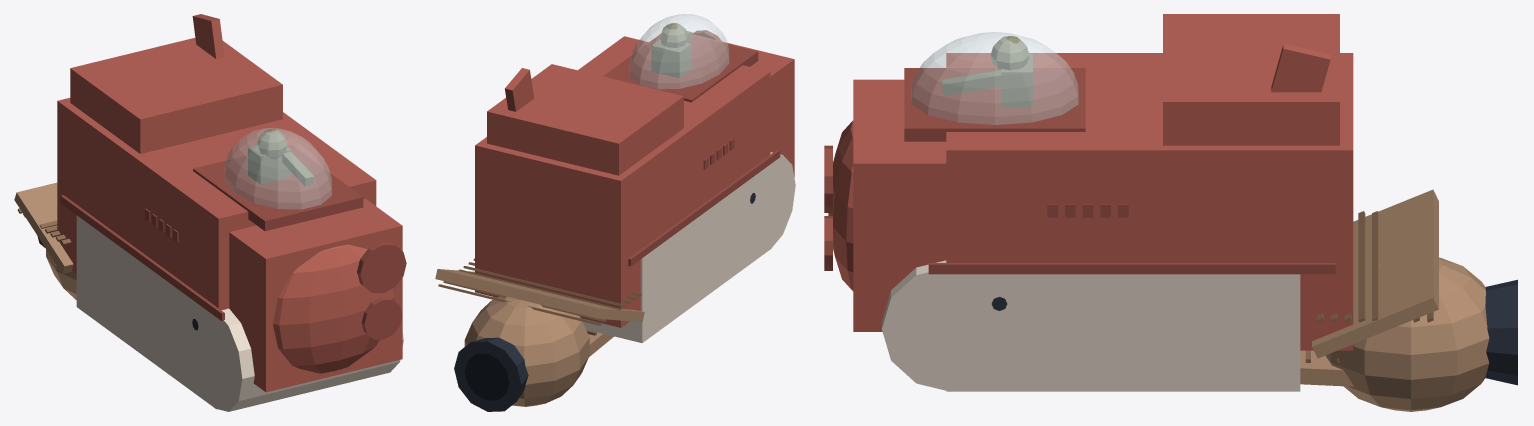
Rendered from gateHaulerCraft_hauler-23-8.glb.
3 views of the same model, side by side, from view 1: azimuth 30°, elevation 25°; view 2: azimuth 150°, elevation 25°; view 3: azimuth 270°, elevation 25° (orthographic). The views are drawn at different scales.
Visible parts, largest first — view 1: n1, n7, n3, n9, n5, n15, n16, n11, n32, n22, n13, n24 (+5 smaller); view 2: n1, n7, n9, n27, n15, n16, n3, n32, n29, n11, n31, n13 (+7 smaller); view 3: n1, n9, n7, n3, n27, n11, n15, n32, n16, n14, n29, n5 (+7 smaller).
Boxes of the visible parts, x1,y1,x2,y2 form: n1: (57,98,376,310); n7: (70,38,282,153); n3: (229,199,402,392); n9: (76,215,229,409); n5: (273,244,395,373); n15: (224,128,331,209); n16: (193,145,363,231); n11: (192,308,403,411); n32: (14,182,73,273); n22: (357,242,406,293); n13: (60,195,224,321); n24: (361,297,402,339); n1: (475,36,770,327); n7: (487,64,683,175); n9: (493,163,771,342); n27: (464,289,589,406); n15: (629,14,729,89); n16: (603,34,758,102); n3: (654,34,794,177); n32: (435,269,644,322); n29: (454,337,528,411); n11: (745,152,795,252); n31: (464,353,509,400); n13: (628,149,780,266); n1: (946,53,1353,350); n9: (946,274,1300,391); n7: (1163,14,1339,145); n3: (853,79,946,331); n27: (1325,257,1489,411); n11: (881,260,1019,391); n15: (911,32,1078,124); n32: (1312,189,1438,358); n16: (904,68,1085,141); n14: (928,263,1335,274); n29: (1485,279,1517,385); n5: (828,120,853,291).
Bounding box in the file's own units: 2.9 × 4.86 × 7.86.
